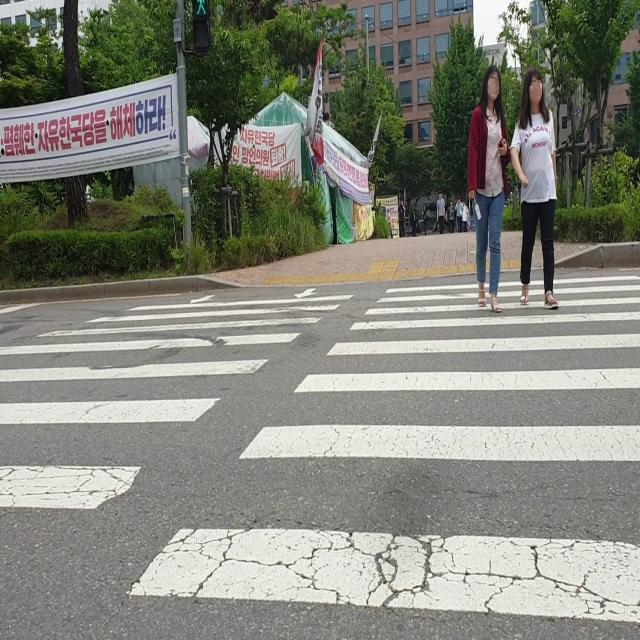횡단보도: (0, 272, 639, 628)
